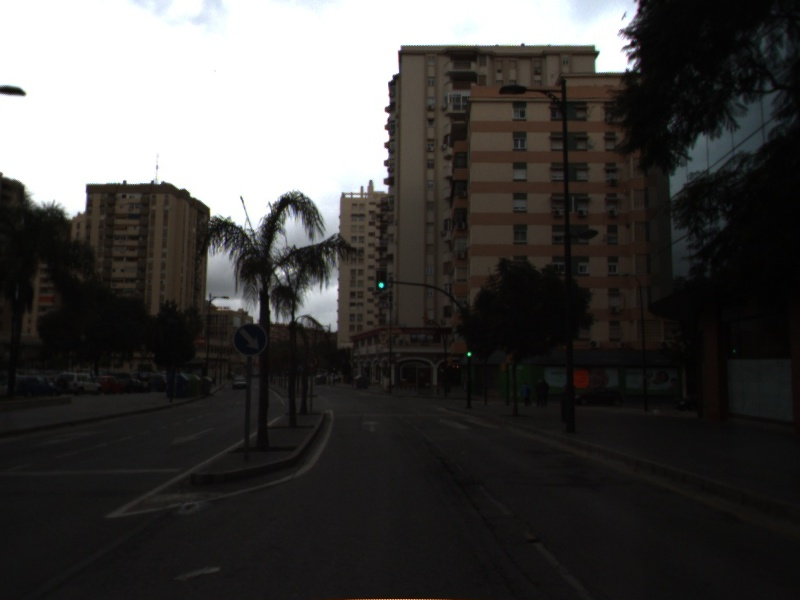STRAIGHT: (359, 418, 383, 434)
